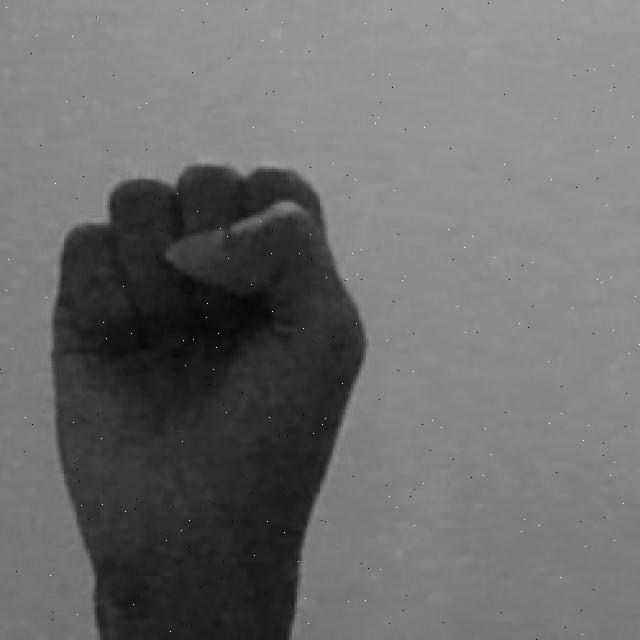S: (44, 155, 372, 640)
